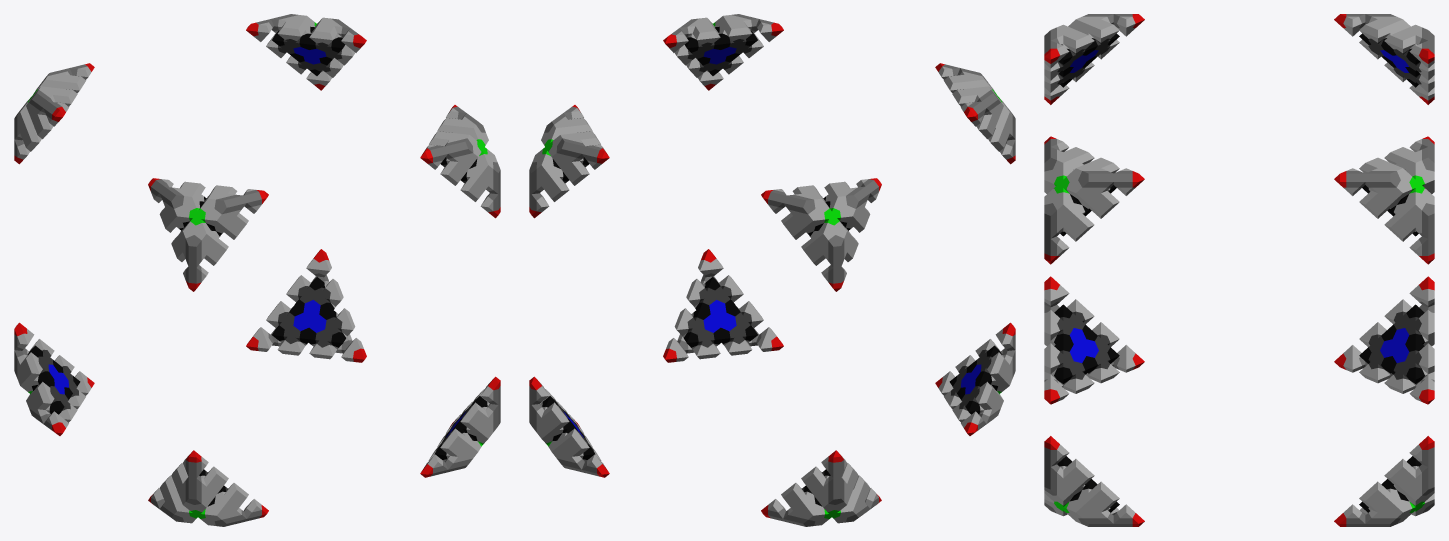
Rendered from obj_auron_bophose_swarm.fbx.
3 views of the same model, side by side, from view 1: azimuth 30°, elevation 25°; view 2: azimuth 150°, elevation 25°; view 3: azimuth 270°, elevation 25° (orthographic). The views are drawn at different scales.
Parts seen in each view (by area): view 1: obj_auron_bophose_swarm; view 2: obj_auron_bophose_swarm; view 3: obj_auron_bophose_swarm.
Part boxes in pixels (x1,y1,x2,y2): obj_auron_bophose_swarm: [14, 14, 500, 526]; obj_auron_bophose_swarm: [529, 14, 1015, 526]; obj_auron_bophose_swarm: [1044, 14, 1434, 526].
Size of the model in its own units: 3100 by 3100 by 3100.
